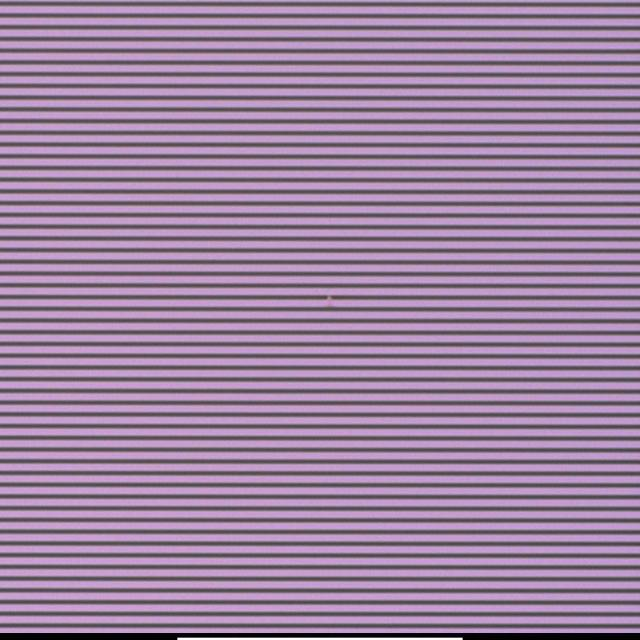03_intrusion: (322, 290, 341, 312)
